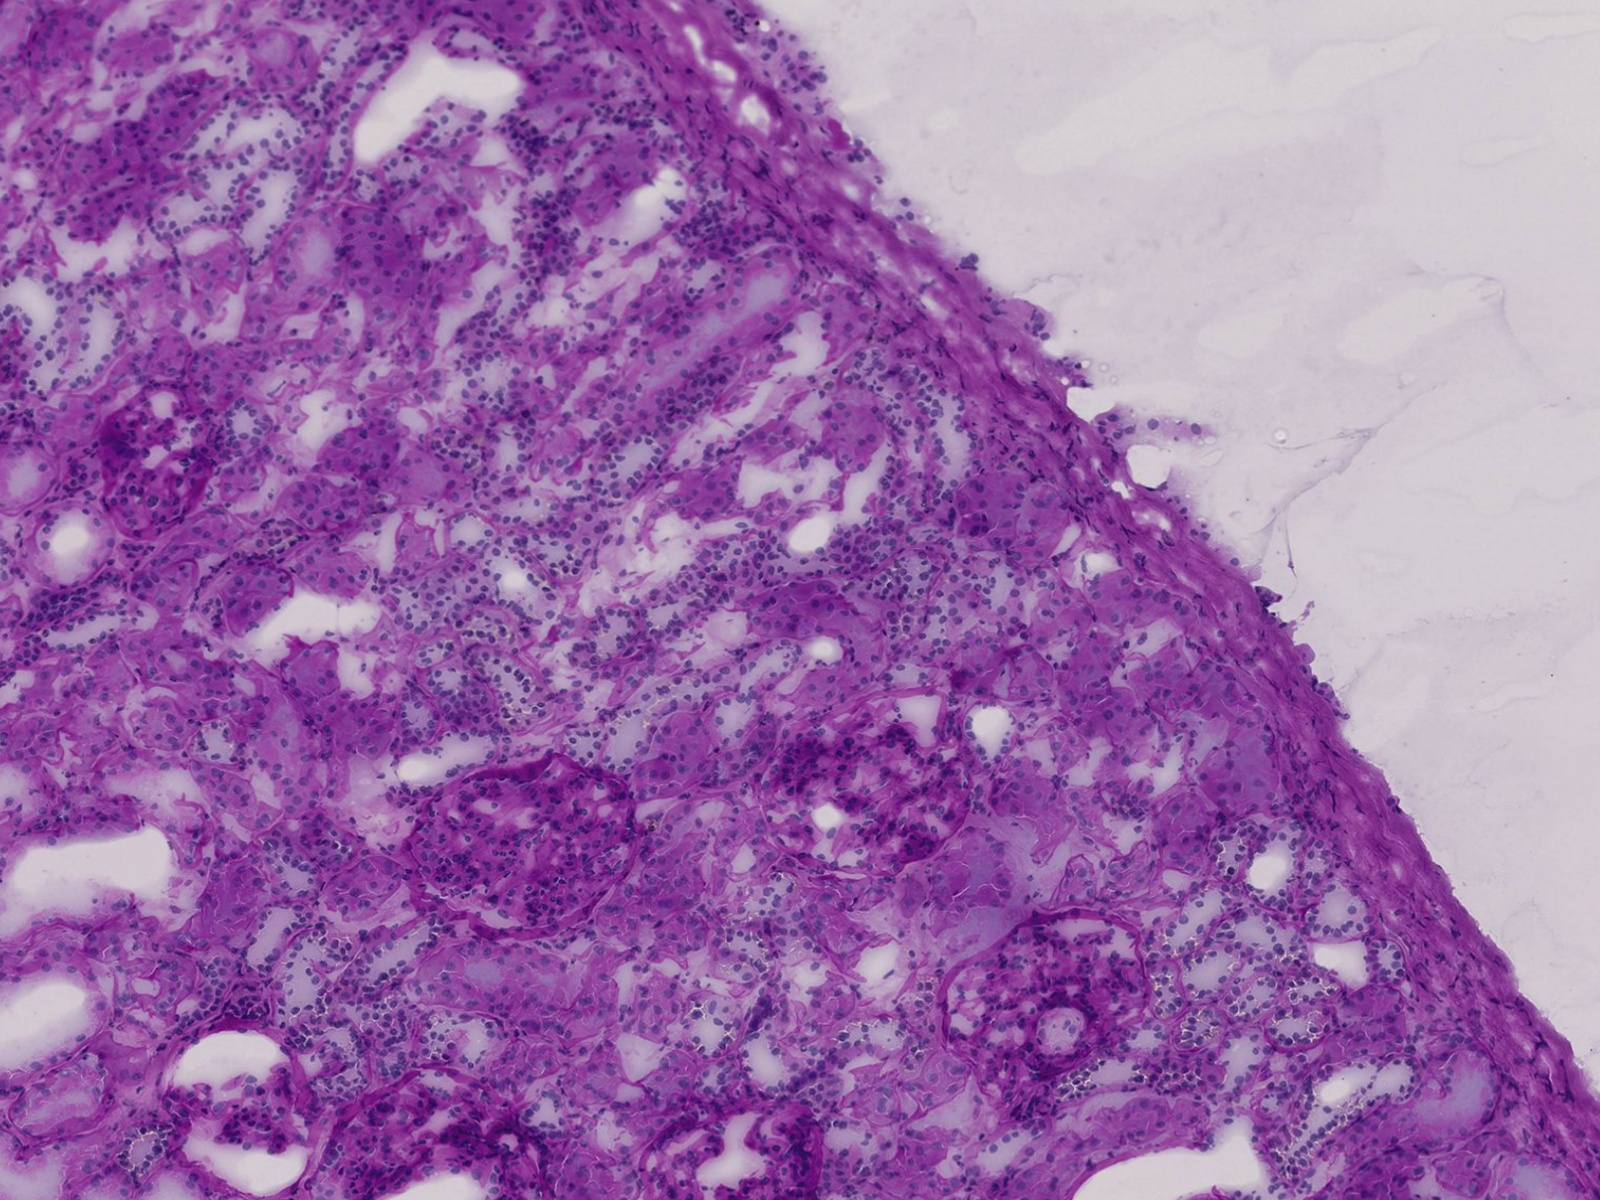Glomeruli: (736, 684, 976, 882), (398, 746, 645, 938), (942, 903, 1162, 1105), (323, 1073, 562, 1200), (639, 1102, 833, 1200)
